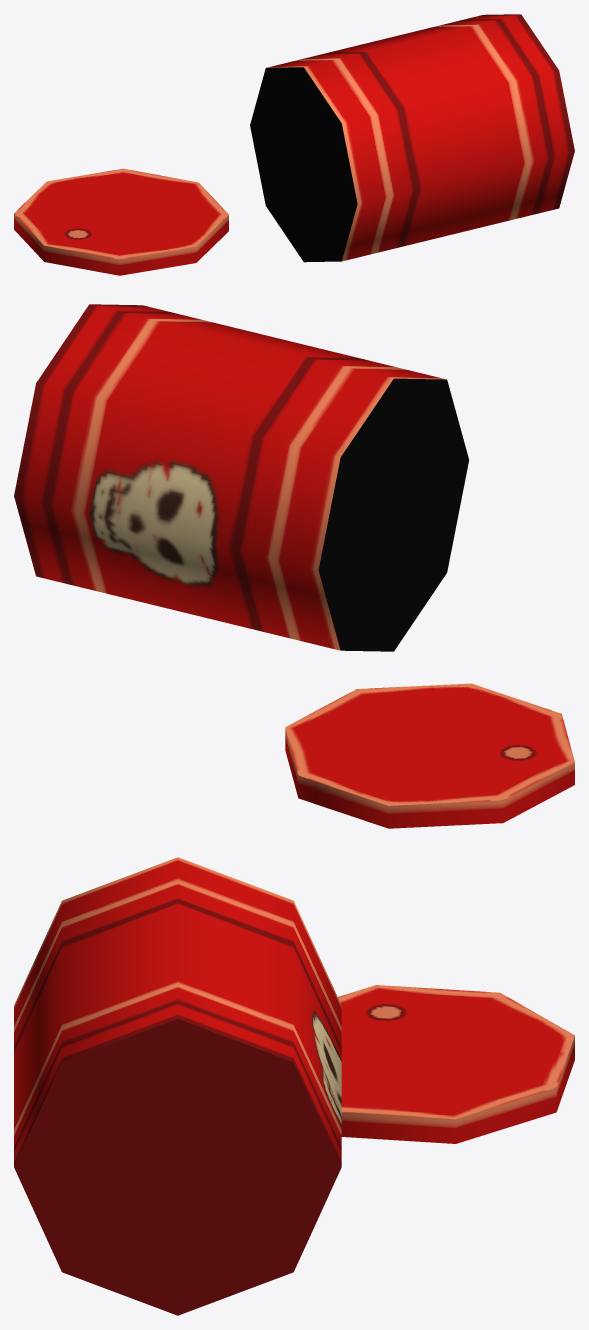
The model's file is barrel_open.fbx.
3 renders of one model, top to bottom at view 1: azimuth 30°, elevation 25°; view 2: azimuth 150°, elevation 25°; view 3: azimuth 270°, elevation 25°, orthographic. The views are drawn at different scales.
Visible parts, largest first — view 1: Cylinder; view 2: Cylinder; view 3: Cylinder.
Boxes of the visible parts, x1=… form: Cylinder: x1=14, y1=14, x2=574, y2=275; Cylinder: x1=14, y1=304, x2=574, y2=828; Cylinder: x1=14, y1=857, x2=574, y2=1315.
Bounding box in the file's own units: 133 × 60 × 103.
1 material, 1 textured.
